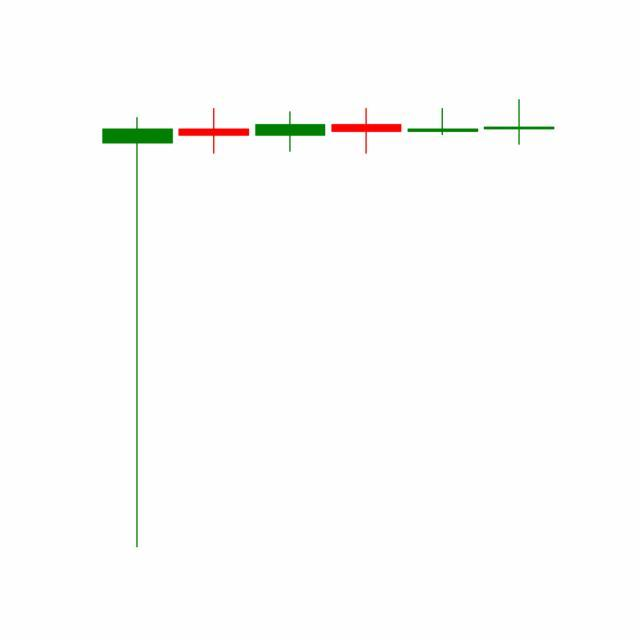Spinning Top: (404, 108, 482, 137)
